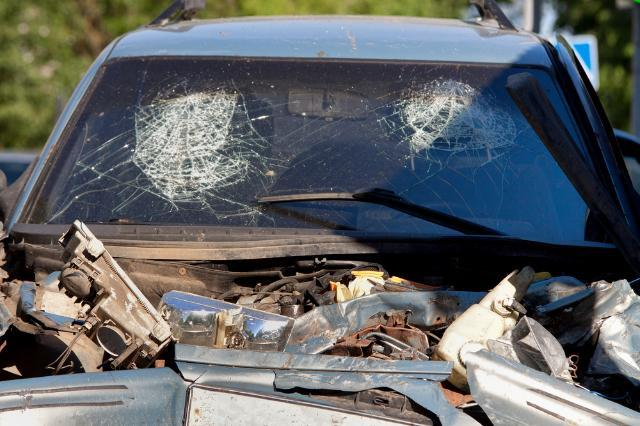crack: (273, 372, 444, 426), (403, 356, 494, 426), (168, 363, 208, 383)
glass shatter: (23, 59, 621, 245)
